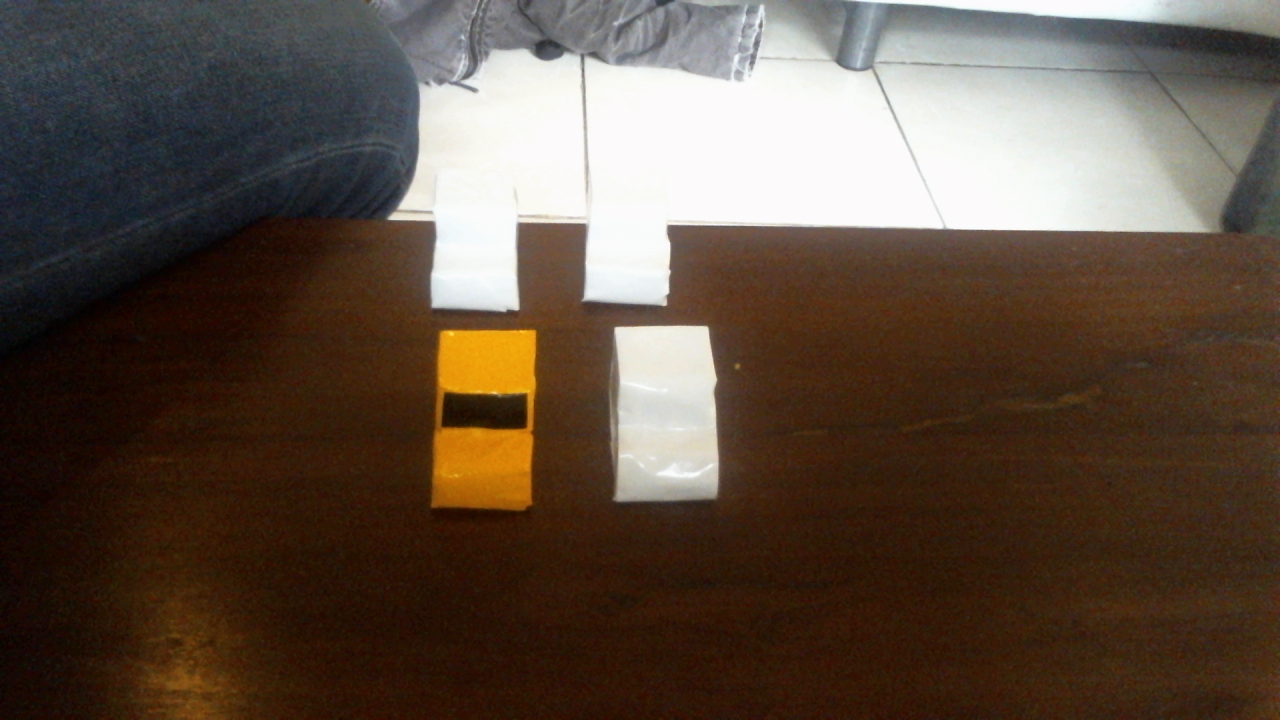Kijang Kapsul: (368, 319, 592, 523)
